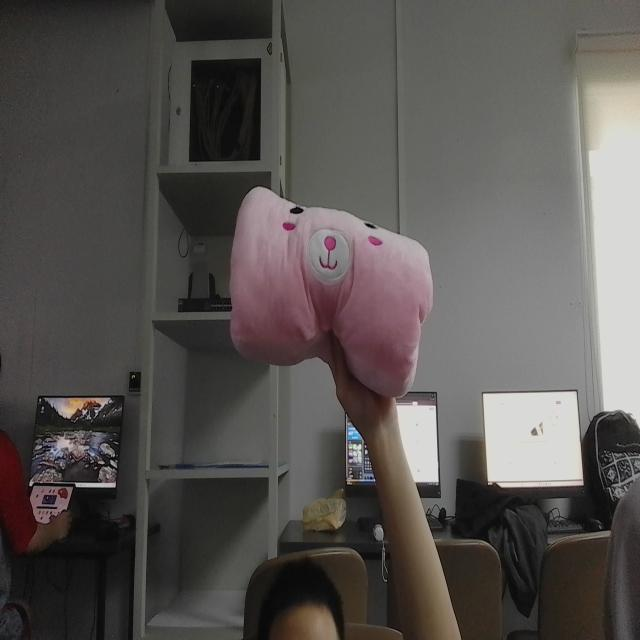pinkpillow: (224, 180, 436, 410)
